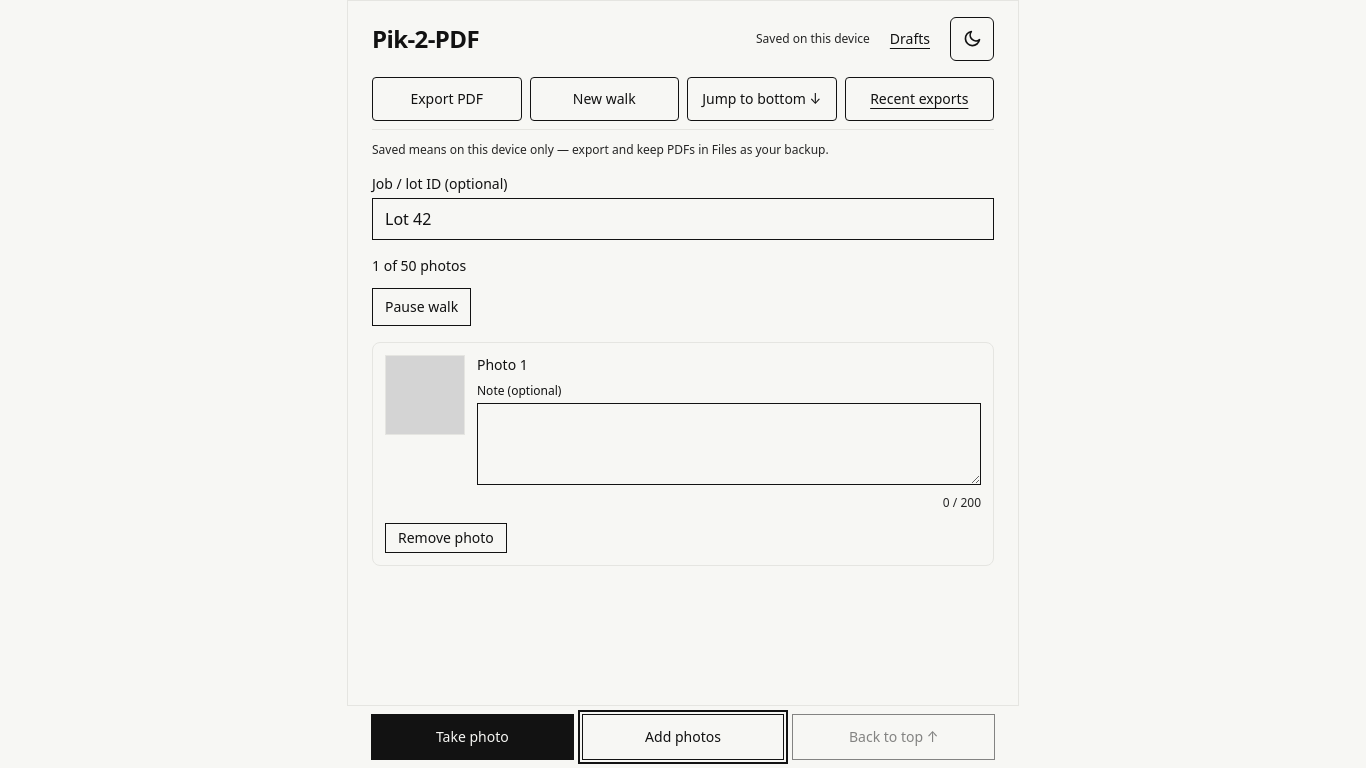
new walk and saved drafts › keeps editing in place, parks the walk, and restores its photo and note
Earlier steps of the test are not shown.
Later steps or results of the test are not shown.
Check: the text "1 of 50 photos" is shown, box top-left (372, 256), bottom-right (466, 275)
Type "Check hinge alignment" into the text box labelled "Note (optional)". click: (729, 444)
box: top-left (477, 403), bottom-right (981, 485)
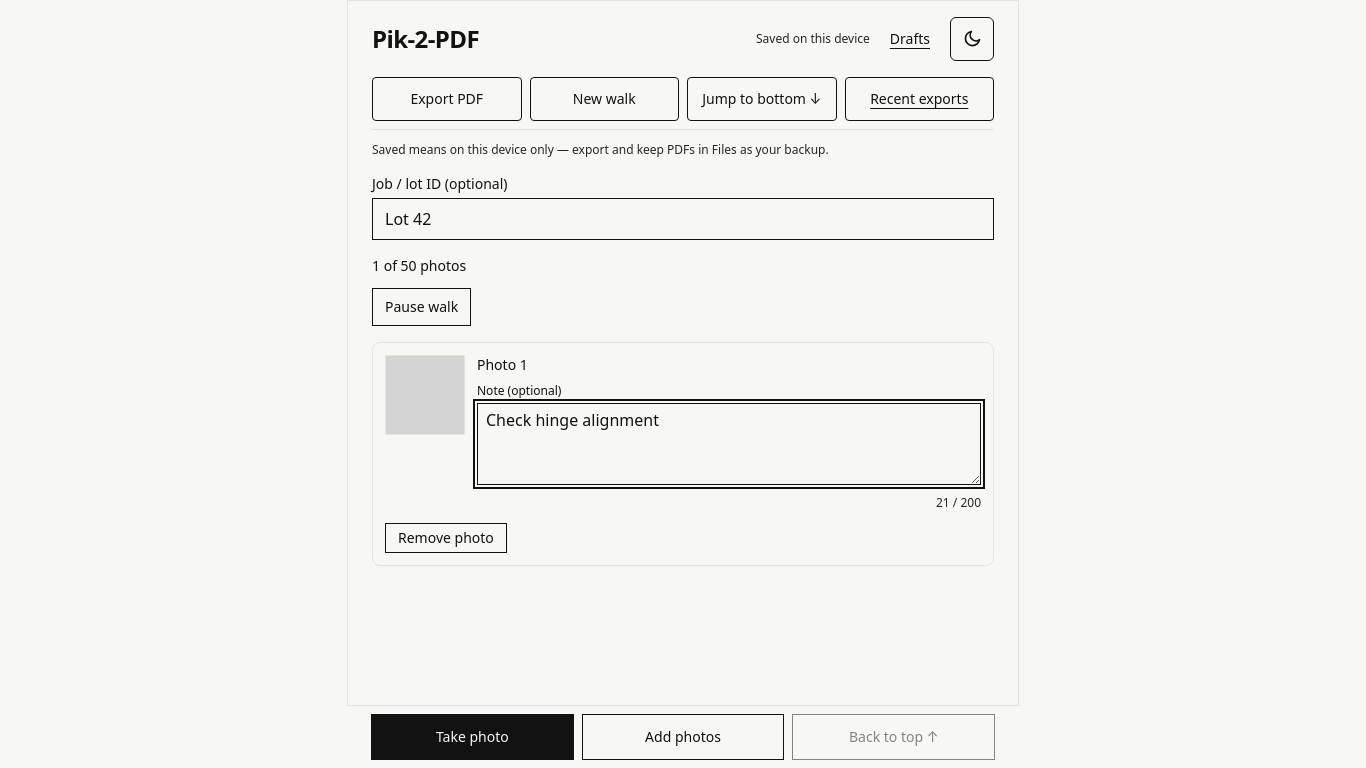
Click the button "New walk". click: (604, 99)
box: top-left (530, 77), bottom-right (679, 121)
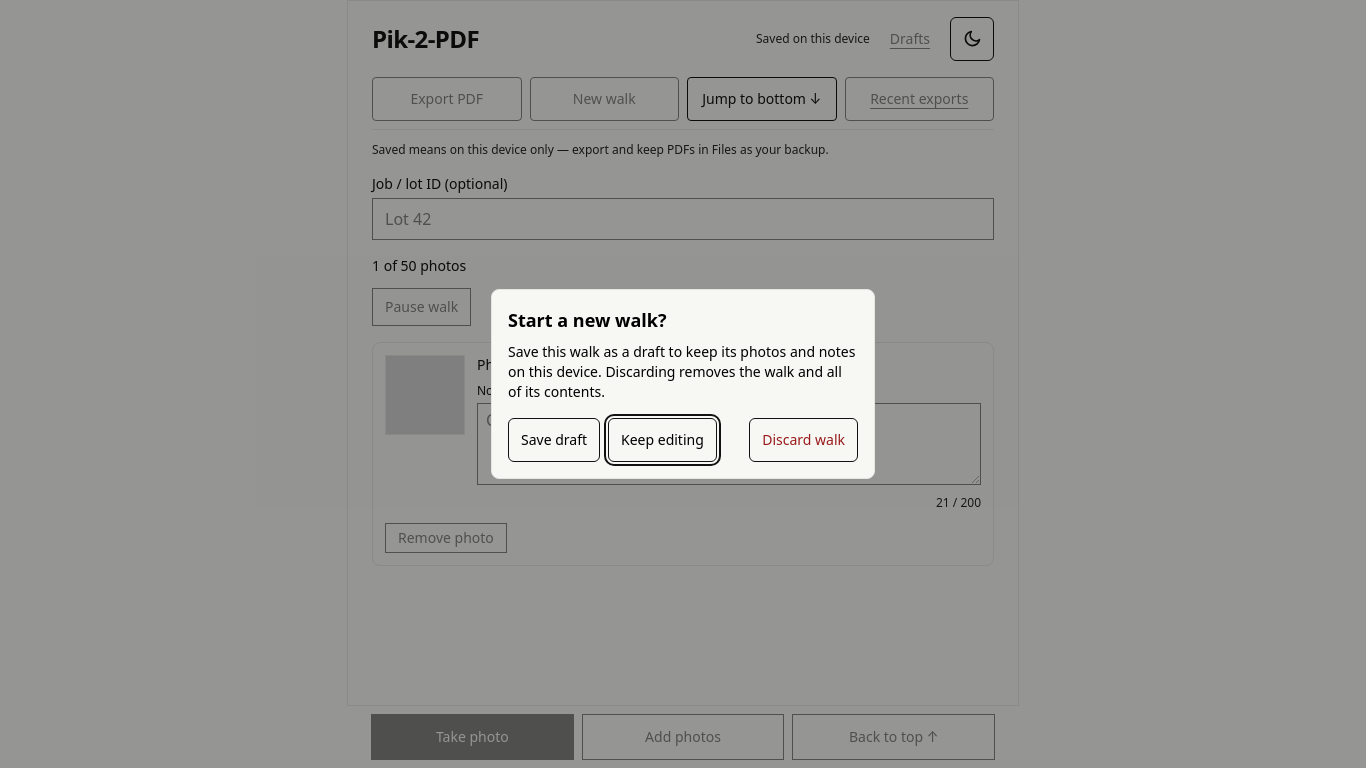
Click the button "Keep editing". click: (662, 440)
box: top-left (608, 418), bottom-right (717, 462)
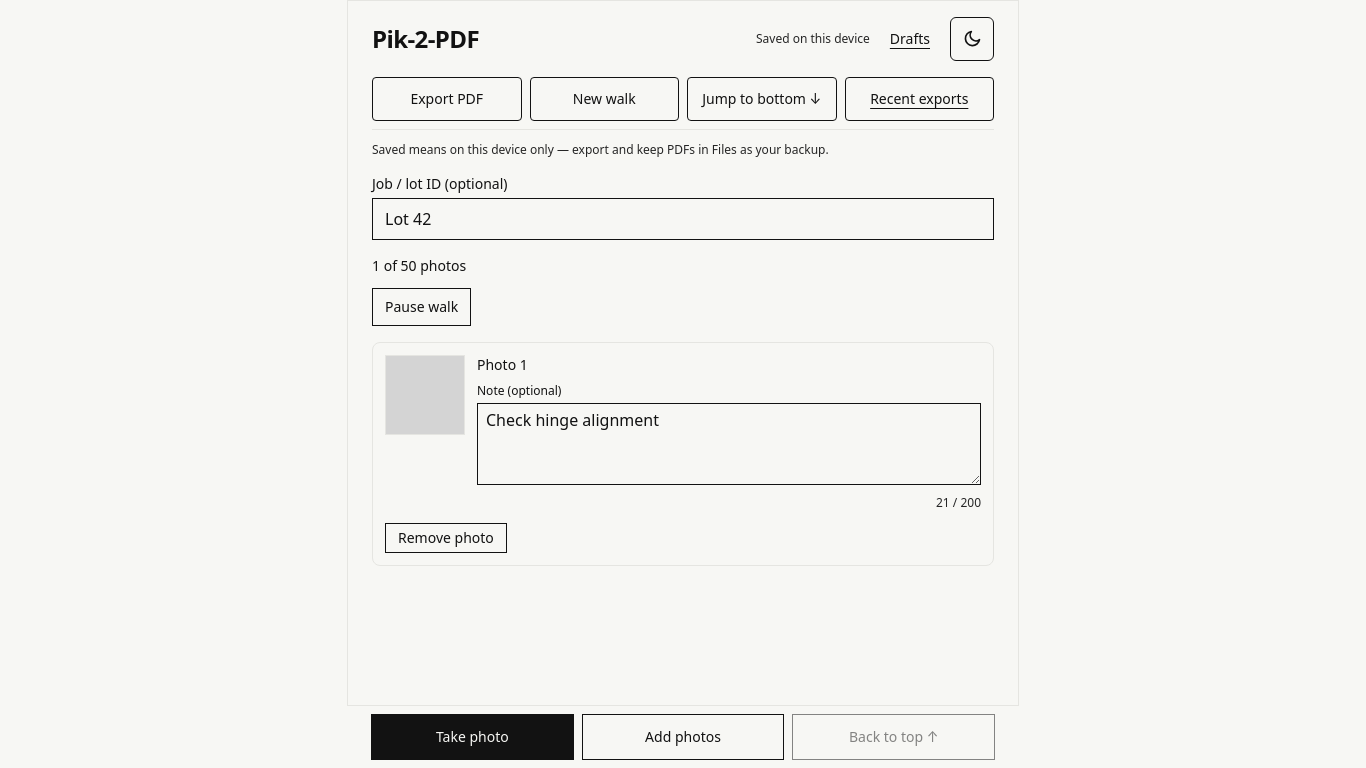
Click the button "New walk". click: (604, 99)
box: top-left (530, 77), bottom-right (679, 121)
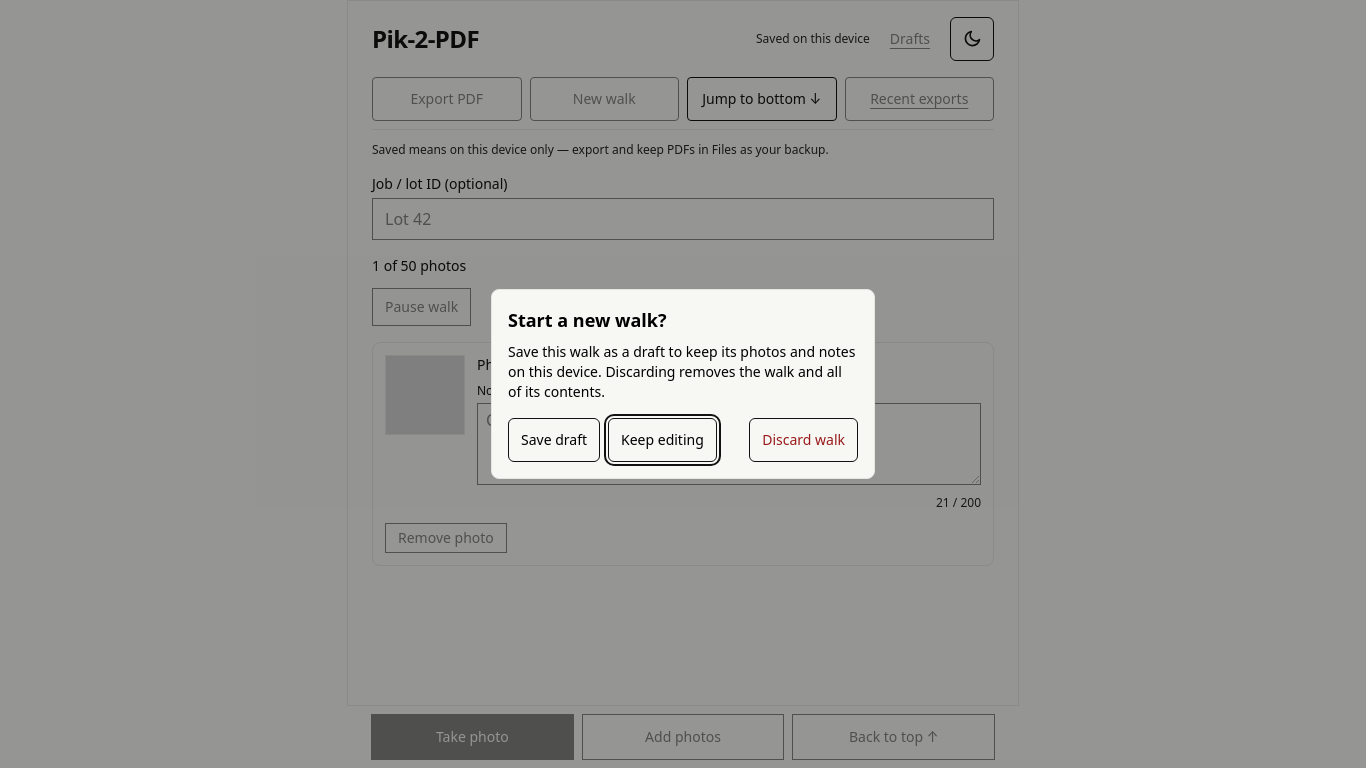
Click the button "Save draft". click: (554, 440)
box: top-left (508, 418), bottom-right (600, 462)
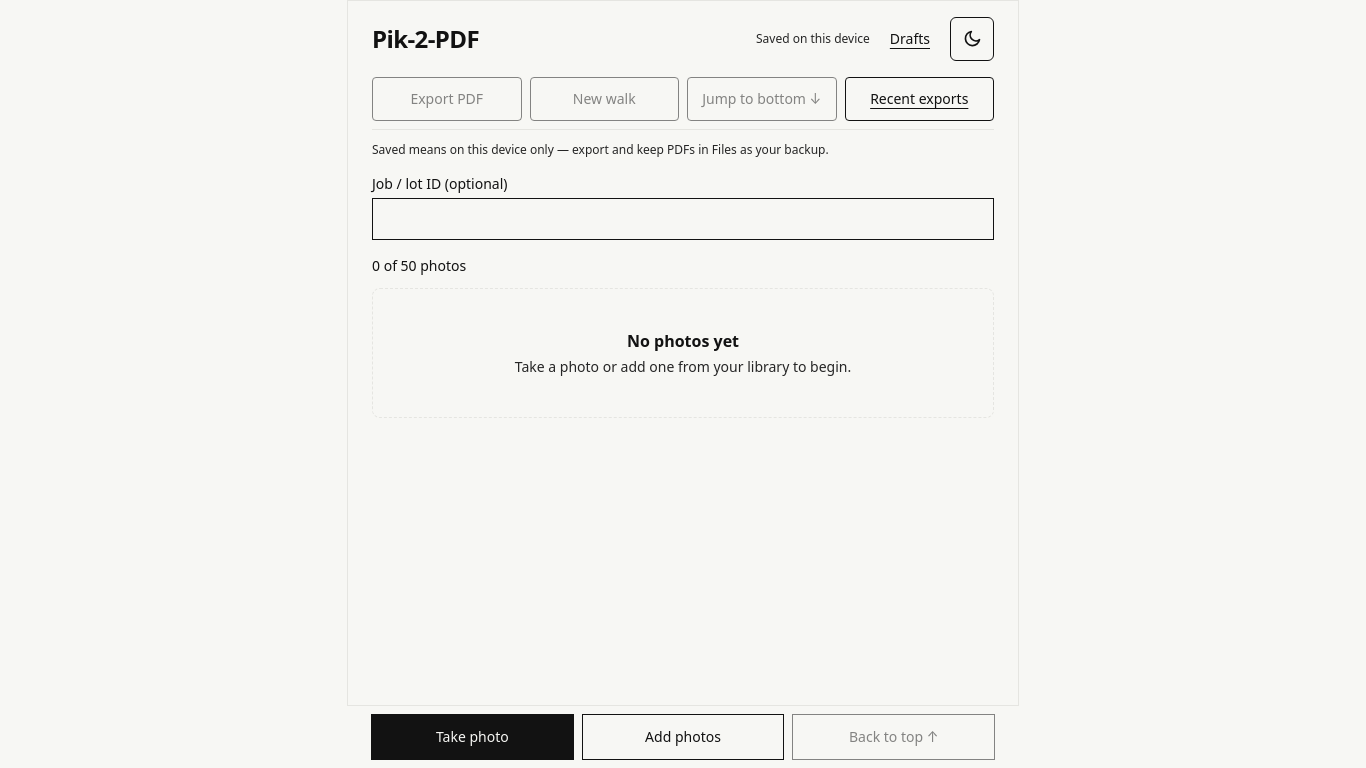
Check: the text "No photos yet" is shown, box top-left (627, 330), bottom-right (739, 352)
Check: the field labelled "Job / lot ID (optional)" is empty, box top-left (372, 198), bottom-right (994, 240)
